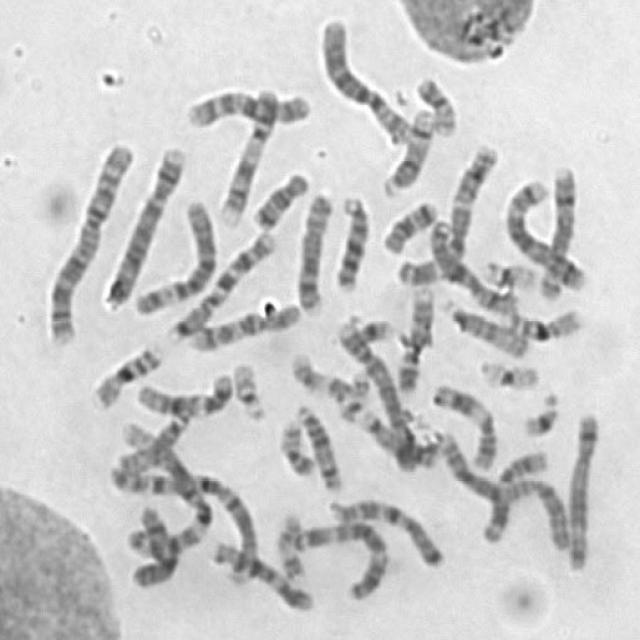A1: (101, 448, 260, 588), (110, 410, 216, 563)
A2: (38, 134, 136, 347), (431, 425, 575, 552)
A3: (390, 136, 500, 288), (288, 512, 391, 601)
B4: (96, 137, 188, 312), (330, 309, 423, 475)
B5: (497, 170, 589, 293), (559, 403, 603, 573)
C10: (182, 294, 304, 354), (179, 82, 314, 129)
C11: (476, 442, 552, 544), (424, 374, 500, 472)
C12: (205, 534, 315, 614), (130, 364, 236, 418)
C6: (312, 8, 414, 145), (127, 191, 218, 316)
C7: (163, 222, 279, 341), (322, 491, 446, 570)
C8: (532, 156, 579, 302), (289, 185, 336, 318)
C9: (212, 80, 281, 228), (389, 278, 437, 394)
D13: (339, 394, 448, 468), (328, 186, 372, 292)
D14: (376, 99, 438, 199), (289, 396, 346, 494)
D15: (434, 290, 530, 360), (108, 405, 193, 480)
E16: (86, 336, 166, 410), (498, 300, 585, 343)
E17: (283, 344, 357, 405), (269, 504, 307, 582)
E18: (246, 163, 312, 230), (375, 192, 441, 255)
F19: (472, 351, 543, 391), (476, 252, 539, 293)
F20: (408, 67, 459, 137), (272, 413, 318, 477)
G21: (516, 384, 562, 438), (344, 308, 396, 345)
G22: (225, 352, 269, 422), (334, 363, 374, 422)
X: (424, 214, 520, 316), (123, 498, 181, 590)
